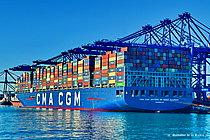Ship: (9, 42, 198, 116)
